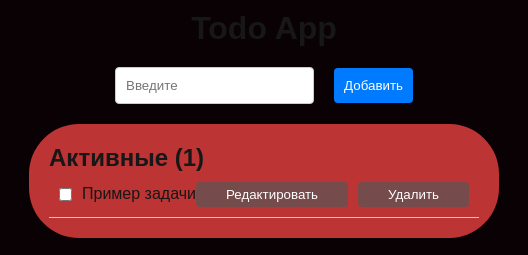
it: Todo App › should show validation error for short title
Type "ab" into the field with placeholder "Введите" at (215,86), box [115,67,314,104]
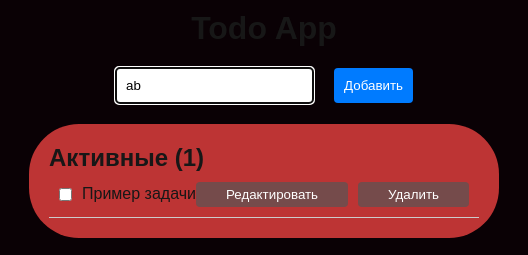
Click the submit button at (374,86), box [334,68,413,103]
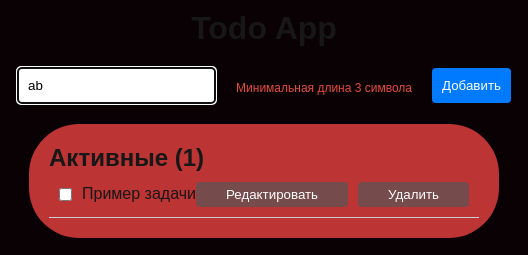
Expected: the text "Минимальная длина 3 символа" is shown, [236,80,412,94]
